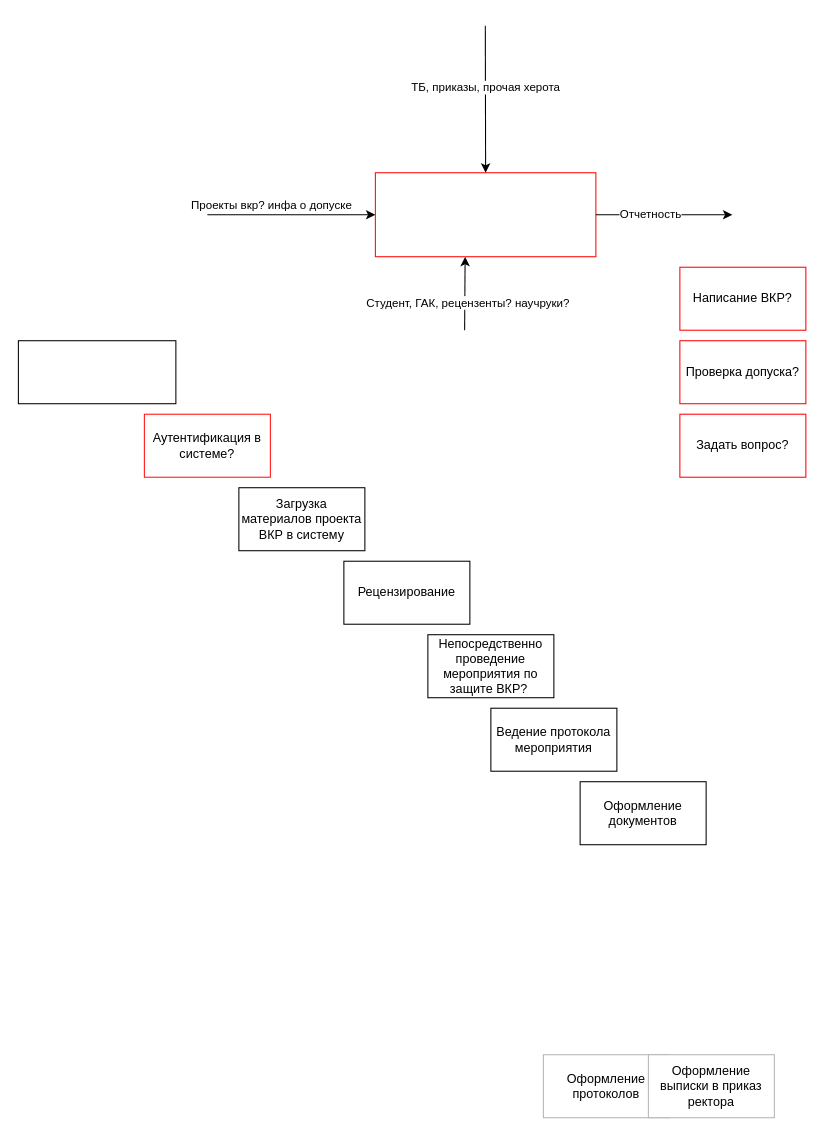
The diagram is 824 pixels wide and 1136 high, and some of its shapes have lost their labels. Here are the shapes that lost their labels. From the top down, the centre of each, then its label:
At (485,214): "Проведение защиты ВКР".
At (96,372): "Защита ВКР / Использование системы".
